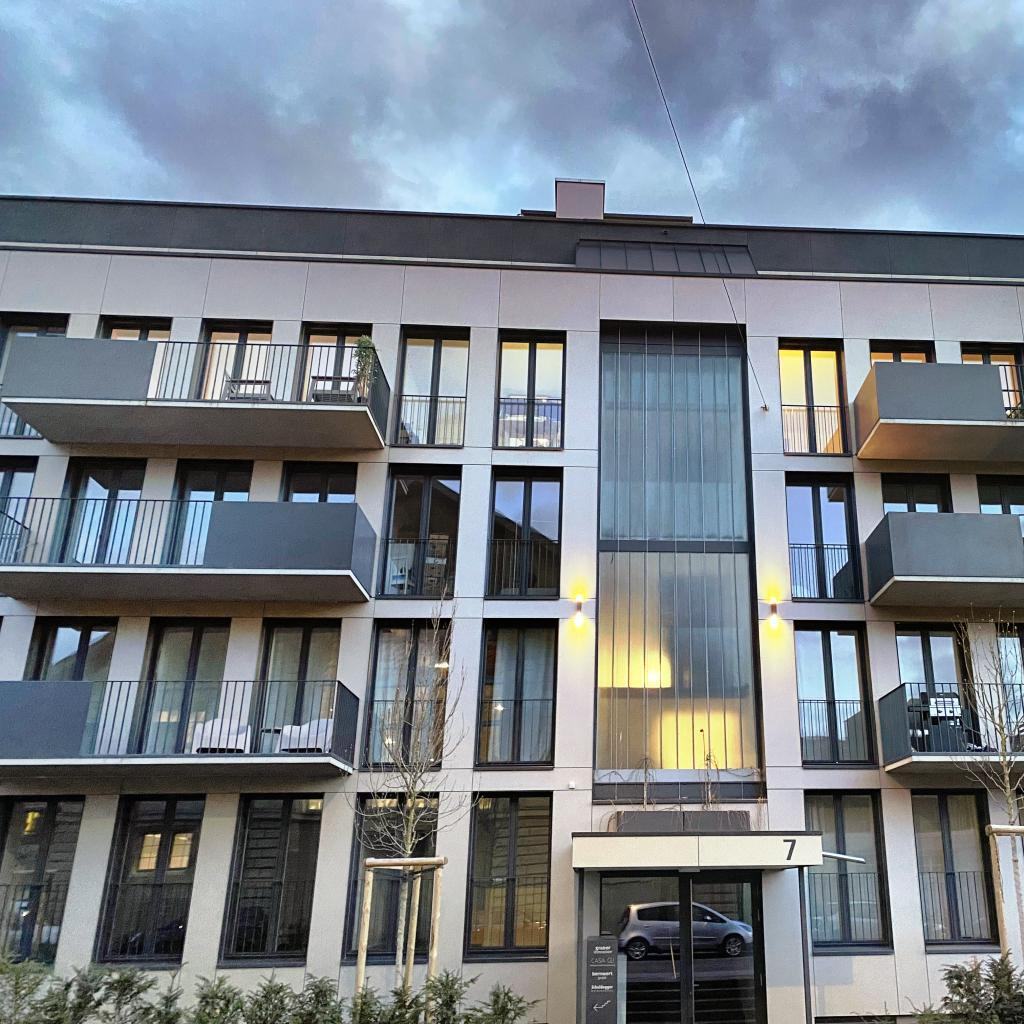balcony-fence: (0, 335, 391, 448), (0, 495, 378, 598), (0, 678, 361, 769), (853, 361, 1024, 455), (864, 511, 1024, 603), (878, 681, 1024, 768), (343, 874, 435, 960), (102, 882, 194, 964), (223, 880, 315, 960), (465, 872, 551, 956), (807, 871, 891, 950), (917, 870, 1000, 946), (0, 882, 70, 968), (362, 698, 446, 768), (476, 698, 556, 766), (798, 698, 875, 766), (379, 537, 458, 597), (485, 538, 561, 597), (788, 542, 860, 599), (393, 394, 467, 447), (494, 397, 565, 450), (780, 404, 850, 455)
facade: (0, 176, 1024, 1024)
non-building-infrastructure: (585, 936, 618, 1024)
vegetation: (338, 578, 485, 992), (904, 601, 1024, 1024), (0, 947, 545, 1024), (350, 333, 378, 400), (849, 999, 895, 1024)
window: (591, 318, 769, 807), (599, 874, 758, 1024), (104, 799, 206, 961), (225, 797, 324, 958), (345, 796, 439, 959), (0, 799, 84, 968), (467, 793, 552, 954), (912, 792, 999, 945), (805, 791, 889, 949), (363, 624, 450, 767), (138, 622, 230, 753), (477, 622, 558, 765), (31, 621, 117, 754), (794, 624, 874, 765), (254, 624, 341, 752), (381, 470, 462, 596), (786, 477, 860, 598), (57, 465, 146, 564), (489, 476, 562, 596), (395, 331, 469, 446), (170, 465, 253, 566), (495, 335, 565, 449), (779, 344, 849, 453), (0, 322, 66, 436), (895, 627, 965, 707), (199, 327, 272, 399), (300, 329, 371, 402), (106, 322, 171, 398), (962, 350, 1023, 419), (996, 630, 1024, 752), (0, 467, 35, 562), (978, 480, 1024, 545), (285, 468, 357, 502), (883, 478, 949, 514), (871, 346, 932, 366)
